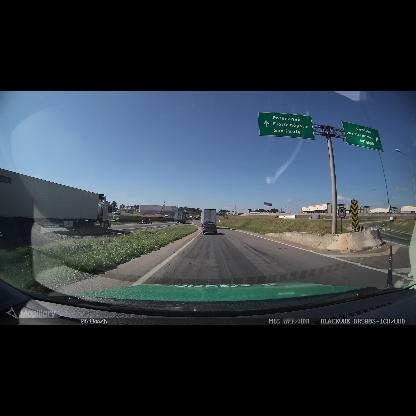O-MP: (351, 200, 359, 229)
R-19: (338, 207, 346, 219)
